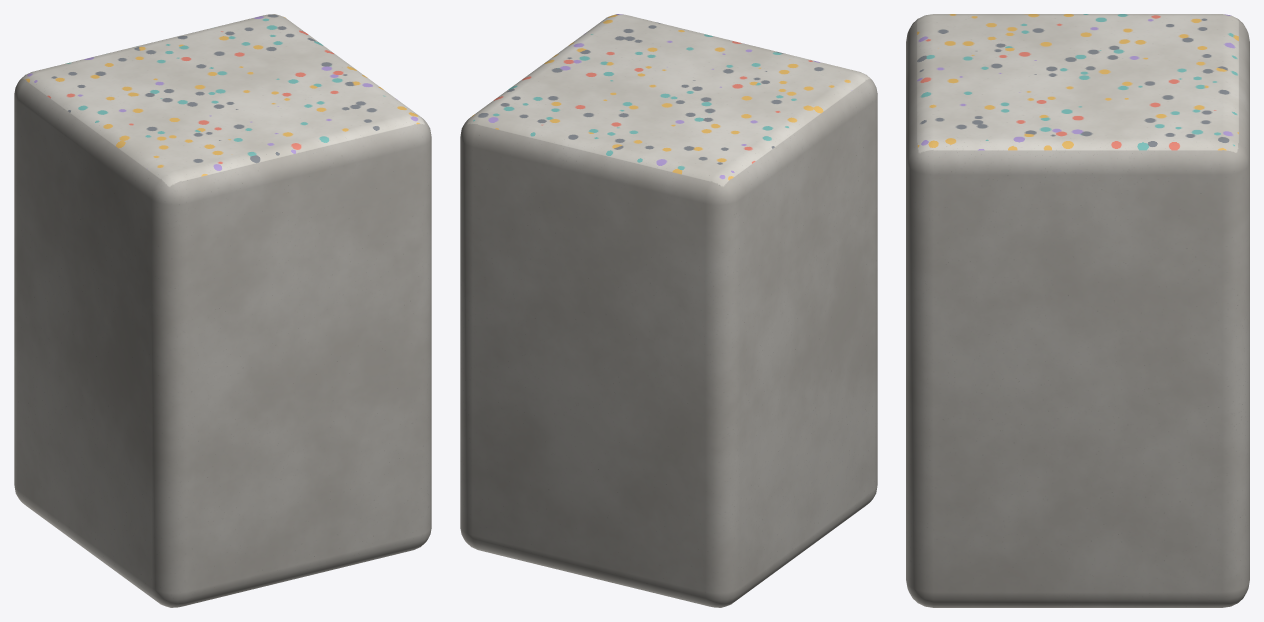
The model's file is SM_Tile_Terrazzo.fbx.
3 renders of one model, left to right at view 1: azimuth 30°, elevation 25°; view 2: azimuth 150°, elevation 25°; view 3: azimuth 270°, elevation 25°, orthographic. The views are drawn at different scales.
Parts seen in each view (by area): view 1: SM_Tile_Terrazzo; view 2: SM_Tile_Terrazzo; view 3: SM_Tile_Terrazzo.
Boxes of the visible parts, bbox=[...] form: SM_Tile_Terrazzo: bbox=[14, 14, 431, 607]; SM_Tile_Terrazzo: bbox=[460, 14, 877, 607]; SM_Tile_Terrazzo: bbox=[906, 14, 1249, 607].
Size of the model in its own units: 2 by 3 by 2.
